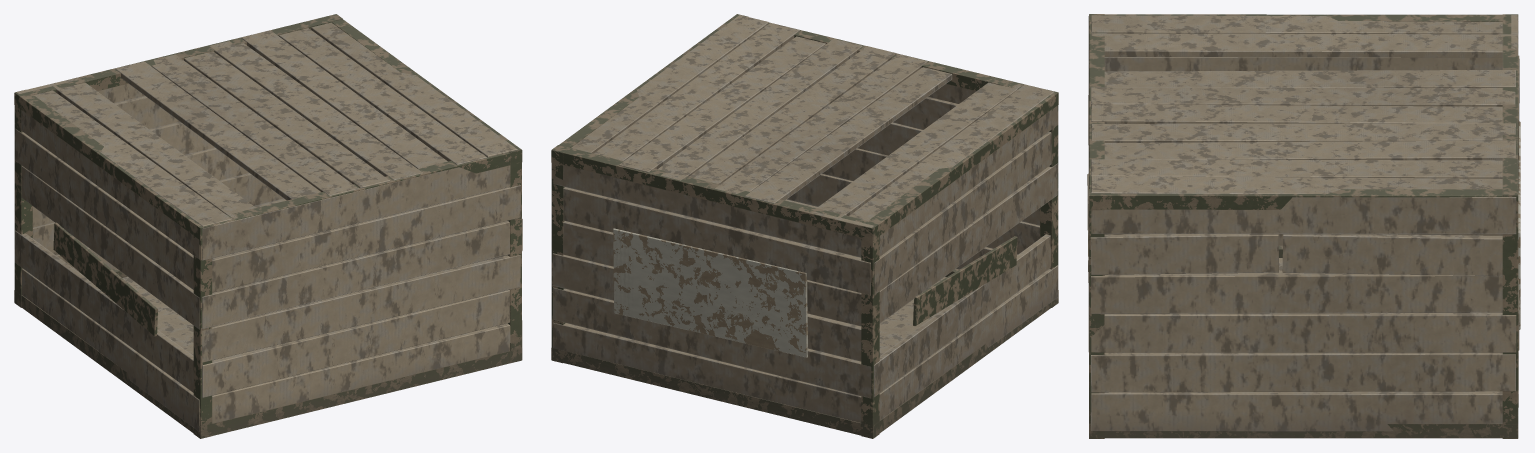
Rendered from crate-12-worn.glb.
3 renders of one model, left to right at view 1: azimuth 30°, elevation 25°; view 2: azimuth 150°, elevation 25°; view 3: azimuth 270°, elevation 25°, orthographic. The views are drawn at different scales.
Parts seen in each view (by area): view 1: crate_12_WornCrateSlat12, crate_12_WornCrateLid12, crate_12_WornCrateFrame12; view 2: crate_12_WornCrateSlat12, crate_12_WornCrateLid12, crate_12_WornCrateFrame12; view 3: crate_12_WornCrateSlat12, crate_12_WornCrateLid12, crate_12_WornCrateFrame12.
Part boxes in pixels (x1,y1,x2,y2): crate_12_WornCrateSlat12: [14, 77, 522, 431]; crate_12_WornCrateLid12: [34, 22, 517, 358]; crate_12_WornCrateFrame12: [14, 14, 522, 438]; crate_12_WornCrateSlat12: [552, 84, 1058, 422]; crate_12_WornCrateLid12: [571, 15, 1053, 355]; crate_12_WornCrateFrame12: [551, 14, 1058, 438]; crate_12_WornCrateSlat12: [1087, 15, 1519, 431]; crate_12_WornCrateLid12: [1091, 15, 1515, 391]; crate_12_WornCrateFrame12: [1089, 14, 1520, 438].
Bounding box in the file's own units: 1.94 × 1.21 × 1.94.
3 materials, 3 textured.
